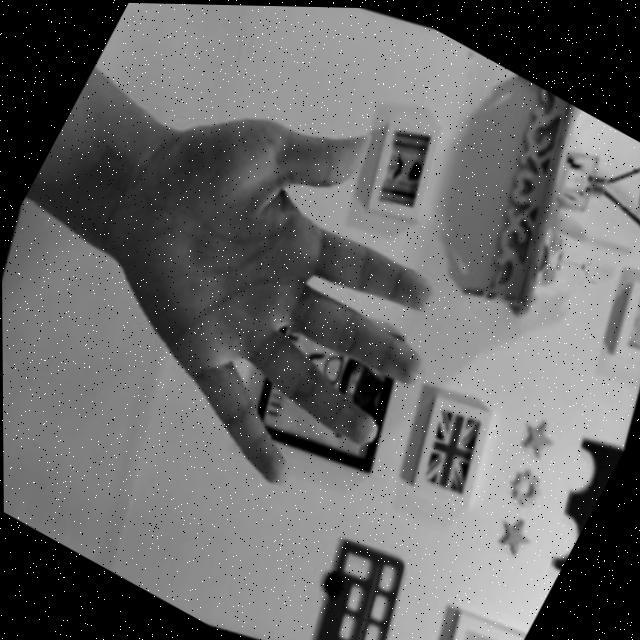no-gloves: (0, 12, 526, 542)
